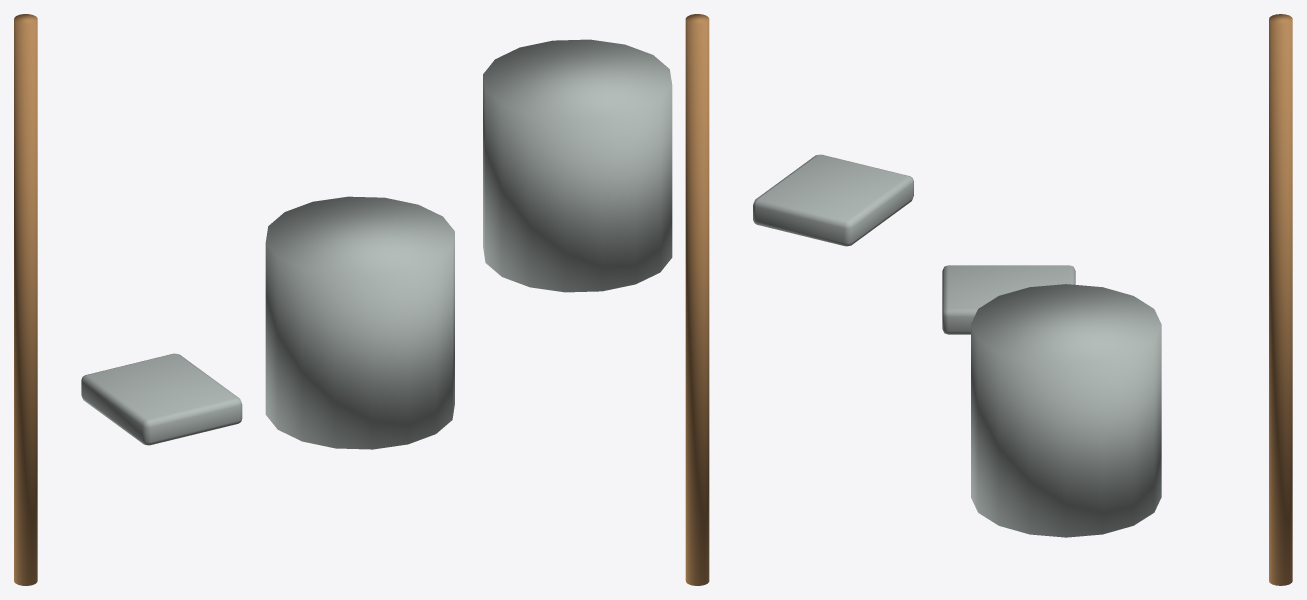
Rendered from farm_tool_set.glb.
3 views of the same model, side by side, from view 1: azimuth 30°, elevation 25°; view 2: azimuth 150°, elevation 25°; view 3: azimuth 270°, elevation 25° (orthographic).
Visible parts, largest first — view 1: Can, Handle, Spade; view 2: Can, Handle, Spade; view 3: Can, Handle, Spade.
Part boxes in pixels (bbox=[...]): Can: bbox=[265, 196, 454, 449]; Handle: bbox=[14, 14, 37, 585]; Spade: bbox=[81, 353, 242, 445]; Can: bbox=[483, 39, 672, 292]; Handle: bbox=[685, 14, 709, 585]; Spade: bbox=[753, 154, 913, 246]; Can: bbox=[971, 284, 1161, 537]; Handle: bbox=[1269, 14, 1292, 585]; Spade: bbox=[942, 265, 1075, 334].
Bounding box in the file's own units: 0.87 × 1.3 × 0.735.
